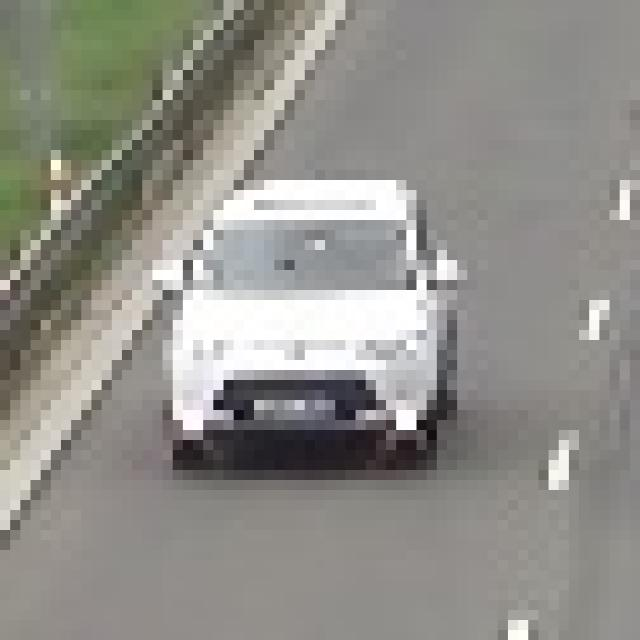SUV: (172, 182, 436, 462)
